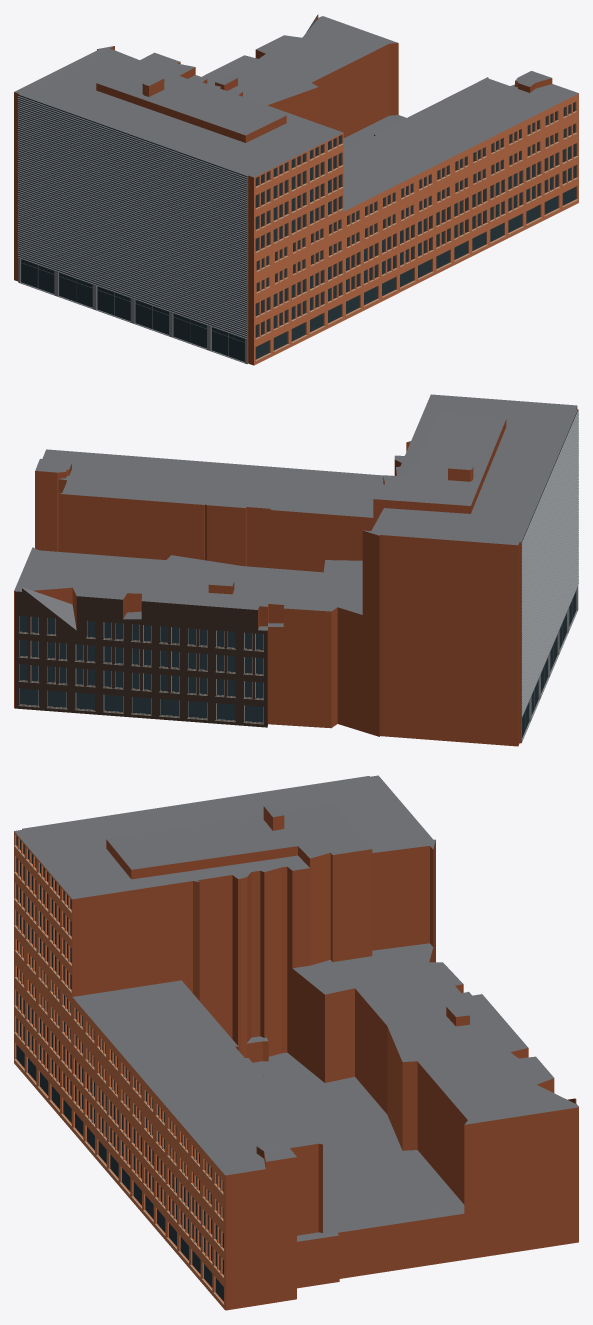
Rendered from recipe-large-tilanusstraat-23-240319.glb.
3 views of the same model, one above another, from view 1: azimuth 30°, elevation 25°; view 2: azimuth 150°, elevation 25°; view 3: azimuth 270°, elevation 25° (orthographic). The views are drawn at different scales.
Visible parts, largest first — view 1: tilanusstraat-23-240319; view 2: tilanusstraat-23-240319; view 3: tilanusstraat-23-240319.
Part boxes in pixels (x1=…): tilanusstraat-23-240319: x1=14, y1=14, x2=578, y2=365; tilanusstraat-23-240319: x1=14, y1=394, x2=578, y2=746; tilanusstraat-23-240319: x1=14, y1=775, x2=578, y2=1310.
Bounding box in the file's own units: 89.29 × 35.04 × 70.36.
